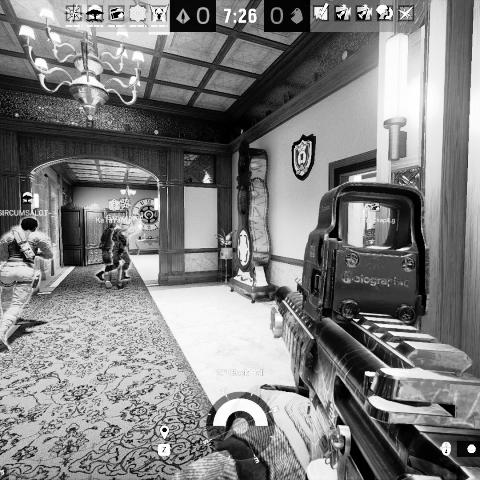Character: (0, 214, 57, 350), (96, 220, 144, 283), (96, 222, 129, 288)
Friend_label: (0, 191, 49, 216), (95, 198, 136, 224), (355, 200, 396, 224), (106, 197, 143, 221)
Head: (20, 217, 38, 236), (120, 220, 131, 230), (109, 222, 117, 230)
